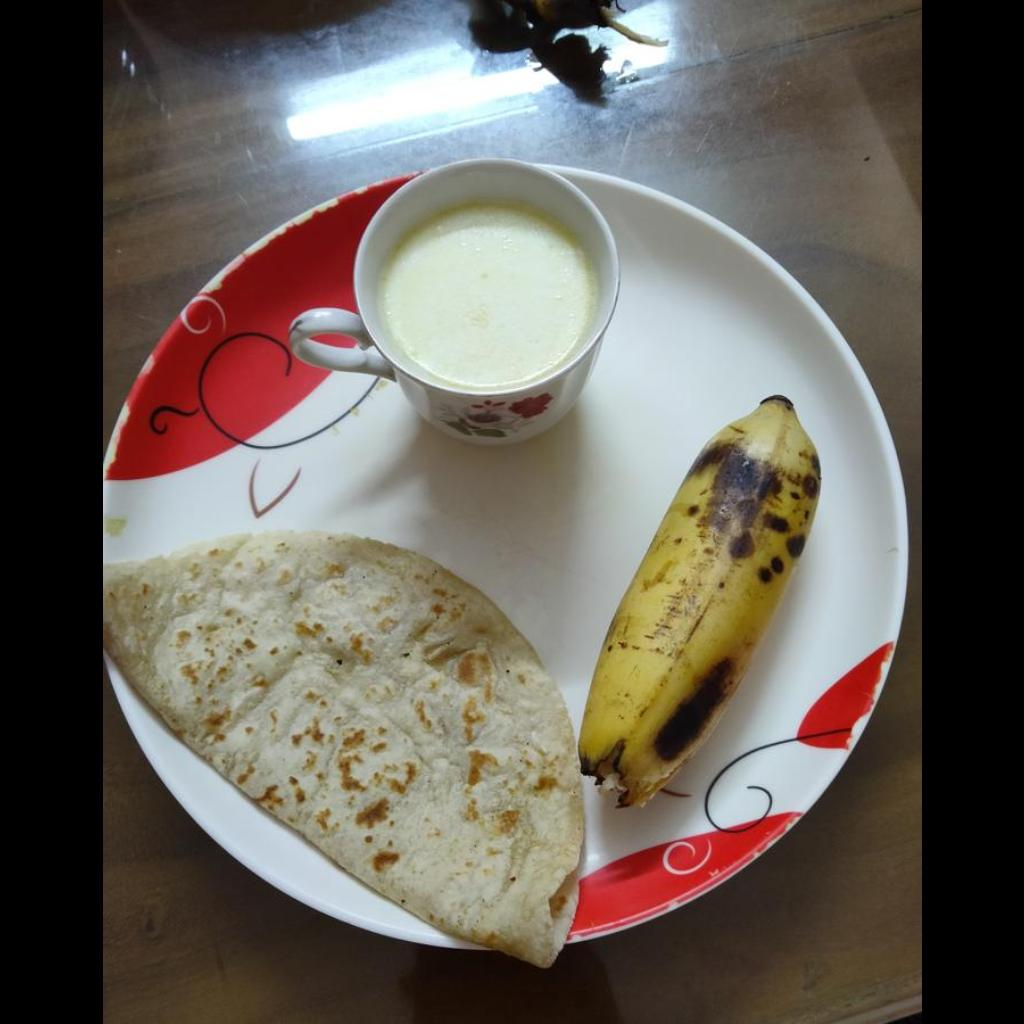banana: (582, 396, 824, 813)
milk: (384, 203, 592, 385)
ruti: (102, 532, 582, 971)
